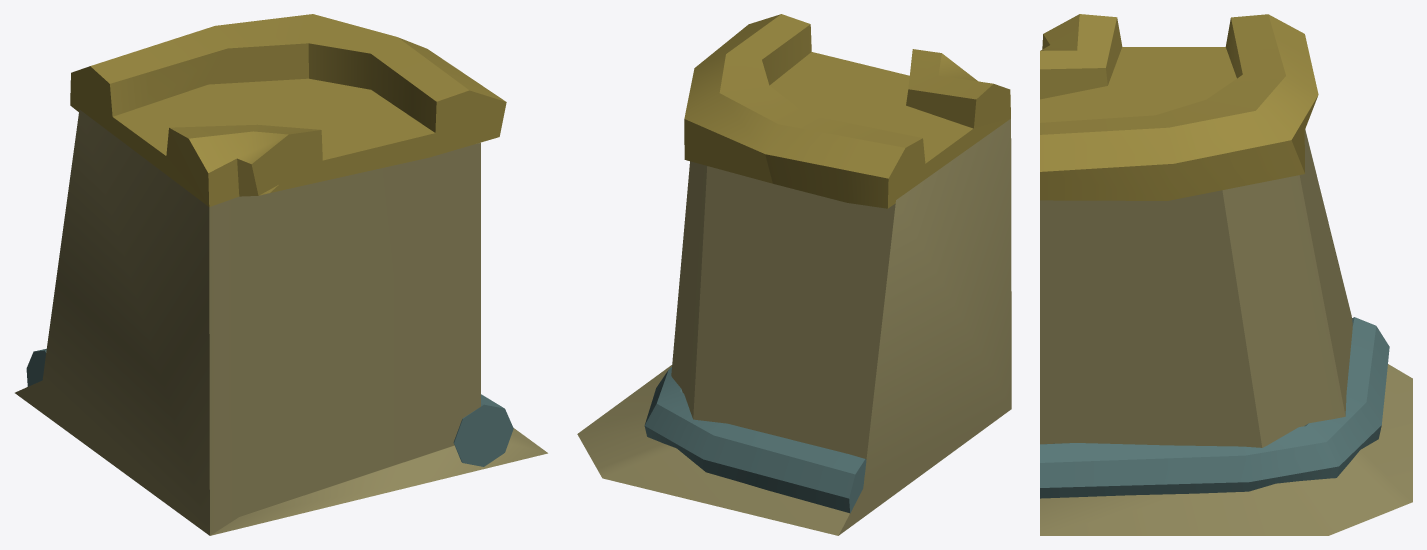
Rendered from Int_36_Corner_Round_D_L.fbx.
The picture shows the model from 3 angles, left to right: view 1: azimuth 30°, elevation 25°; view 2: azimuth 150°, elevation 25°; view 3: azimuth 270°, elevation 25°; orthographic projection. The views are drawn at different scales.
Parts seen in each view (by area): view 1: Int_36_Corner_Round_D_L; view 2: Int_36_Corner_Round_D_L; view 3: Int_36_Corner_Round_D_L.
Part boxes in pixels (left/top/right/bottom): Int_36_Corner_Round_D_L: left=15, top=14, right=547, bottom=535; Int_36_Corner_Round_D_L: left=577, top=14, right=1011, bottom=535; Int_36_Corner_Round_D_L: left=1040, top=14, right=1412, bottom=535.
Bounding box in the file's own units: 1 × 1.09 × 1.
